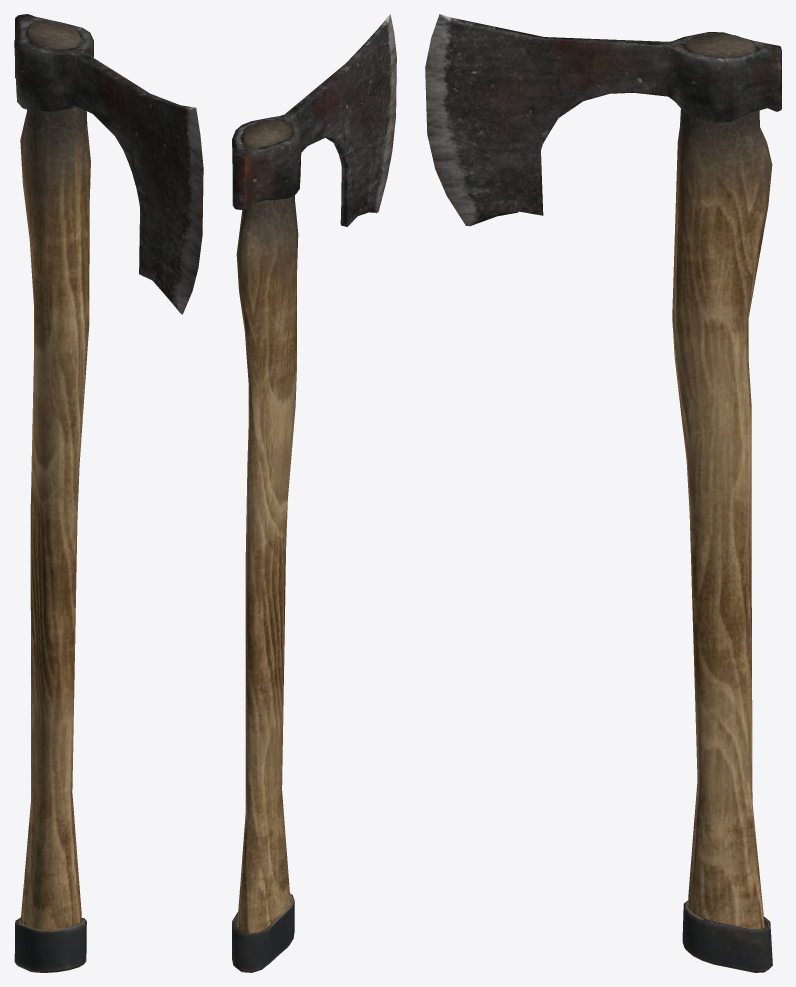
Rendered from ph-wooden_axe.glb.
3 views of the same model, side by side, from view 1: azimuth 30°, elevation 25°; view 2: azimuth 150°, elevation 25°; view 3: azimuth 270°, elevation 25° (orthographic). The views are drawn at different scales.
Visible parts, largest first — view 1: wooden_axe; view 2: wooden_axe; view 3: wooden_axe.
Boxes of the visible parts, <box> form: wooden_axe: <box>14,14,203,972</box>; wooden_axe: <box>232,14,396,972</box>; wooden_axe: <box>425,14,781,972</box>.
Bounding box in the file's own units: 0.0472 × 0.6303 × 0.2135.
1 material, 1 textured.
